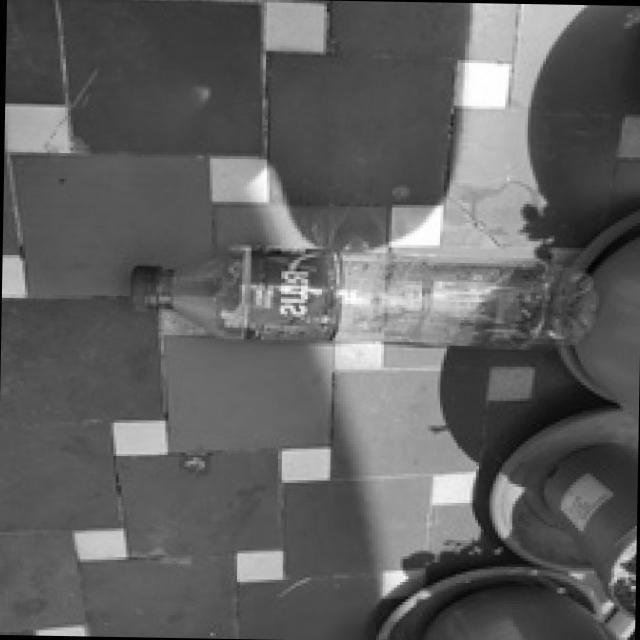good: (116, 223, 608, 361)
